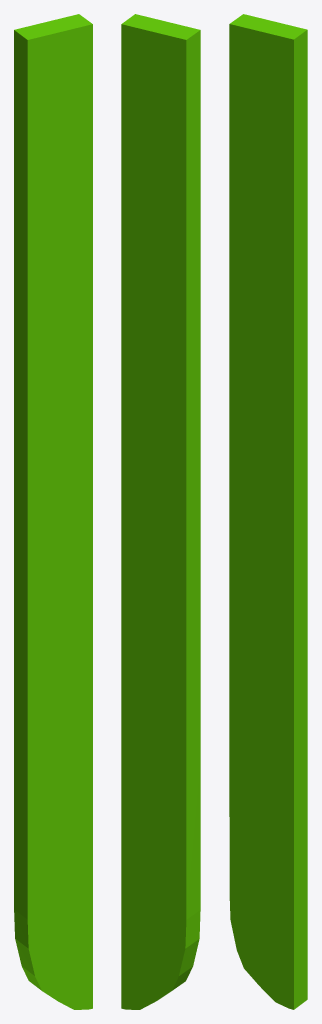
The picture shows the model from 3 angles, left to right: view 1: azimuth 30°, elevation 25°; view 2: azimuth 150°, elevation 25°; view 3: azimuth 330°, elevation 25°; orthographic projection.
Size of the model in its own units: 2.07 by 29.76 by 0.7601.
